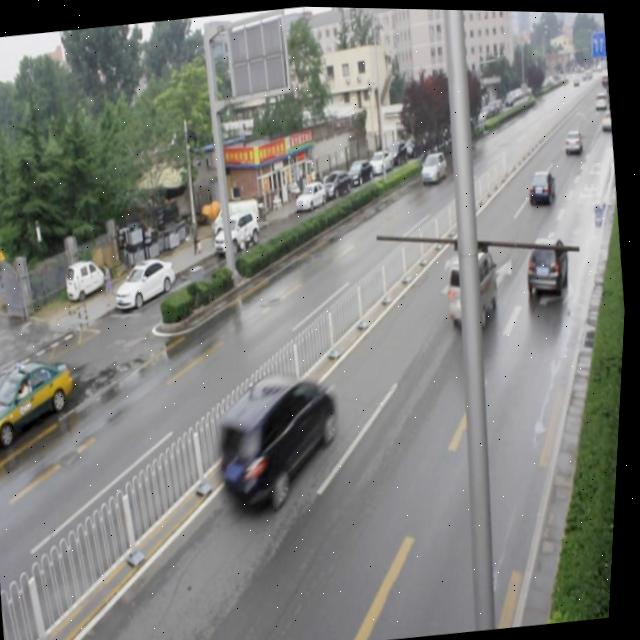car: (523, 227, 575, 300), (524, 165, 560, 206), (417, 144, 448, 185)
truck: (213, 364, 353, 512), (442, 242, 504, 328)
